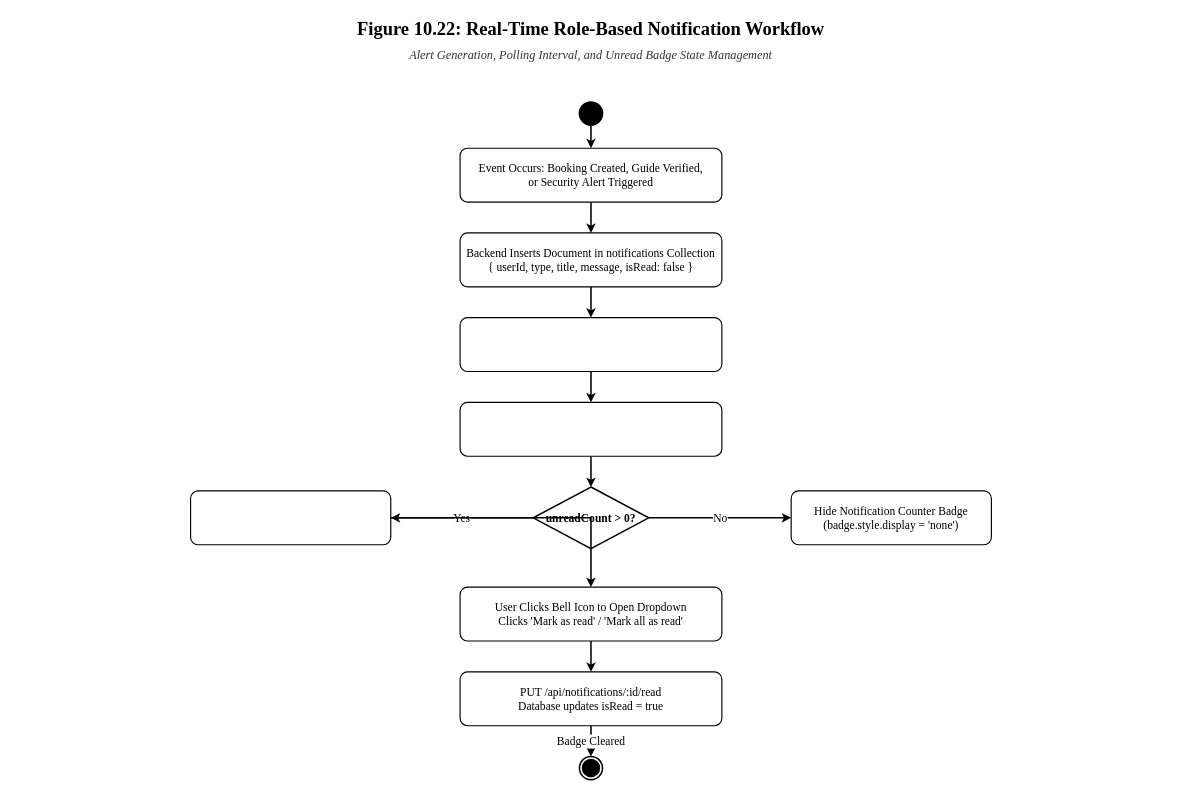
This 1181x793 diagram has some shape labels left out. The centre of each missing label's shape, as x and y in pixels:
"Client nav.js Polls /api/notifications/:userId Every 25 Seconds / on Page Mount" belongs at (x=590, y=344).
"Display Red Counter Badge on Bell Icon (e.g. '1', '2', '9+')" belongs at (x=290, y=517).
"Filter Unread Alerts (isRead == false) Compute unreadCount" belongs at (x=590, y=428).
